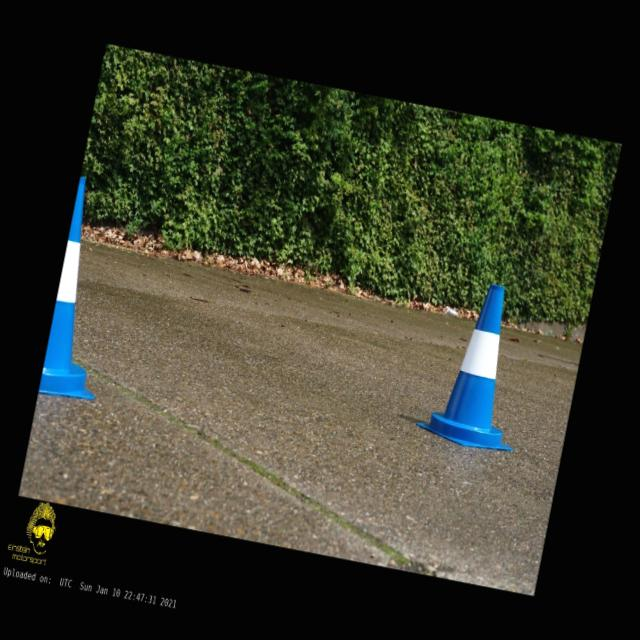blue_cone: (414, 275, 543, 455), (38, 175, 136, 404)
